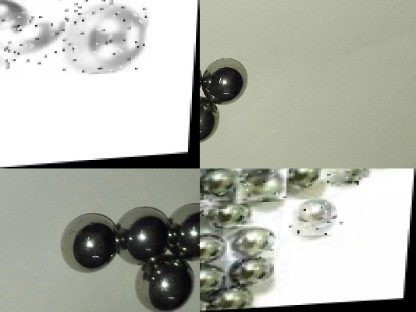ironball: (44, 0, 148, 77), (54, 207, 121, 276), (131, 253, 193, 312), (116, 202, 173, 262), (0, 9, 50, 69), (202, 50, 251, 103), (283, 198, 345, 238), (222, 223, 280, 261), (229, 252, 291, 287), (236, 168, 289, 203), (168, 199, 197, 262), (233, 224, 280, 259), (204, 285, 260, 311), (199, 262, 233, 299), (195, 96, 222, 140), (199, 231, 233, 259), (323, 168, 365, 184), (199, 193, 221, 216), (199, 286, 216, 311)
